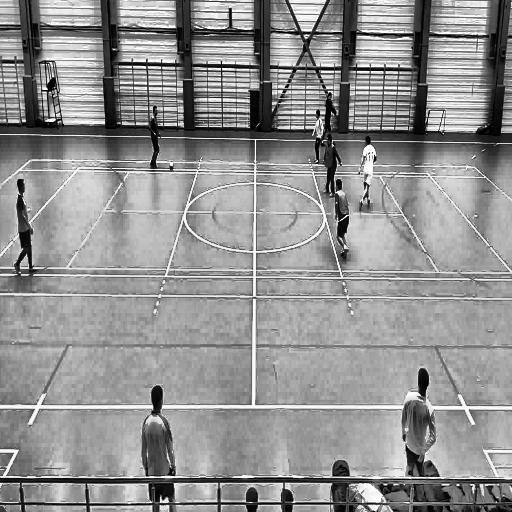ball: (168, 160, 175, 174)
player: (141, 381, 181, 512), (402, 366, 438, 476), (12, 174, 42, 278), (328, 176, 352, 261), (358, 133, 378, 213), (148, 104, 165, 171), (309, 107, 328, 166), (325, 91, 340, 138)
